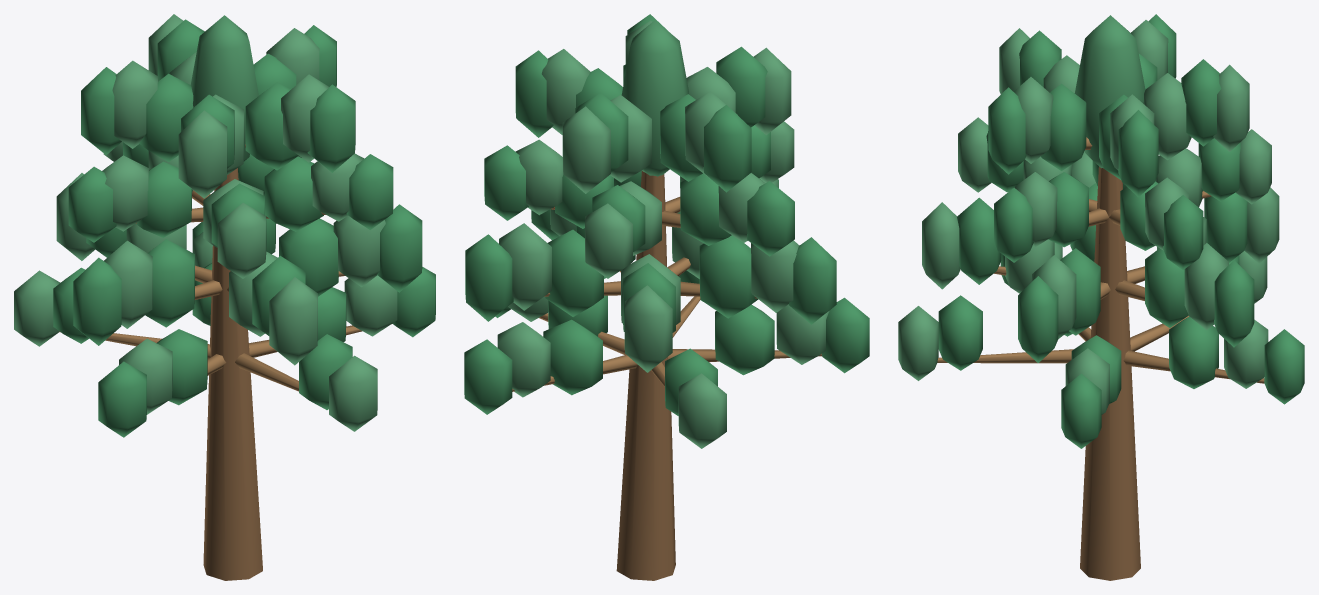
Rendered from tree_conifer_01.glb.
The picture shows the model from 3 angles, left to right: view 1: azimuth 30°, elevation 25°; view 2: azimuth 150°, elevation 25°; view 3: azimuth 270°, elevation 25°; orthographic projection.
Size of the model in its own units: 0.7473 by 1.09 by 0.7307.
